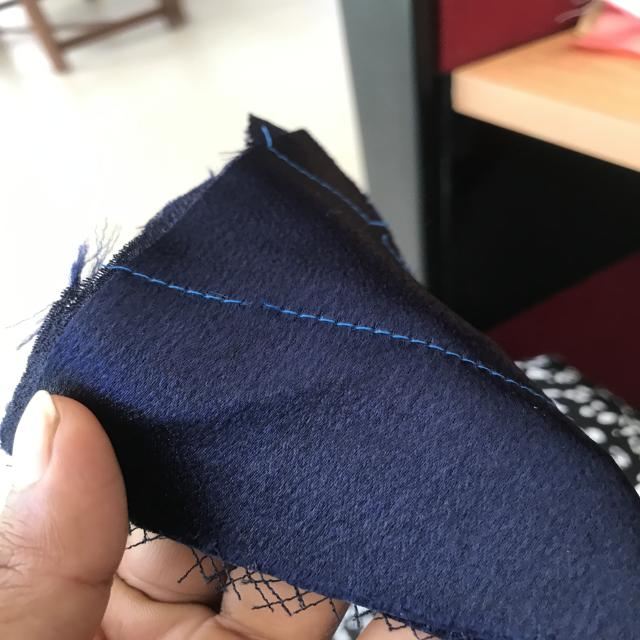broken: (228, 284, 297, 321)
good: (337, 310, 448, 360), (356, 220, 407, 242)
